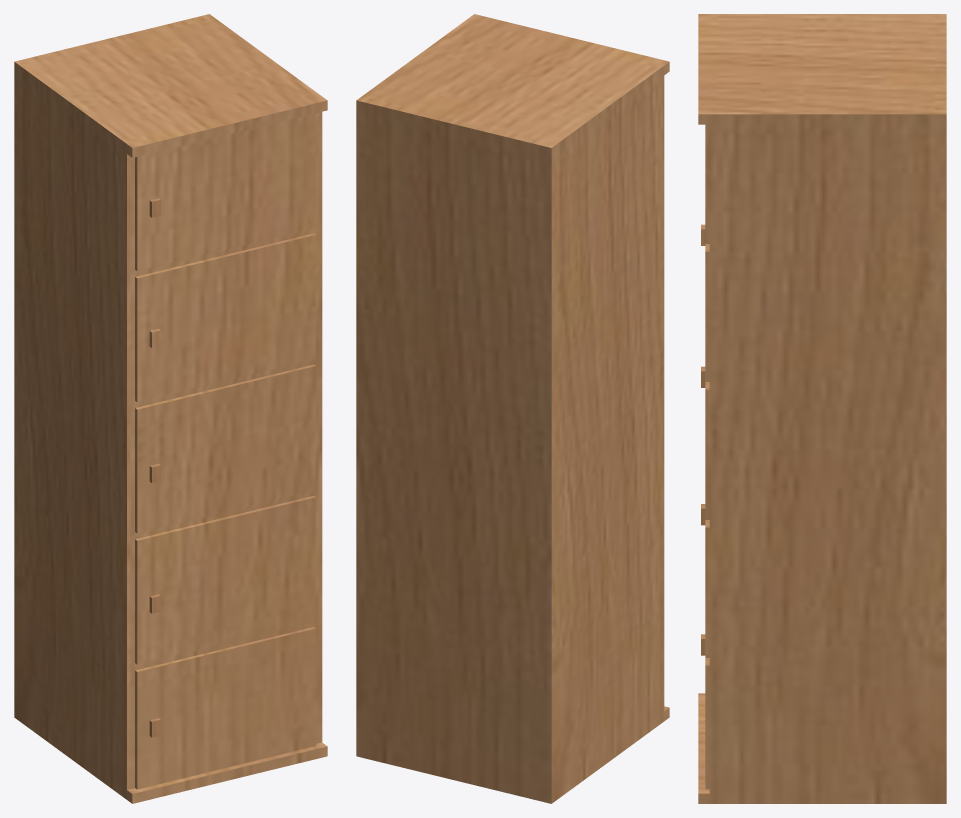
The model's file is Almari1.fbx.
3 views of the same model, side by side, from view 1: azimuth 30°, elevation 25°; view 2: azimuth 150°, elevation 25°; view 3: azimuth 270°, elevation 25° (orthographic). The views are drawn at different scales.
Visible parts, largest first — view 1: Cube.015; view 2: Cube.015; view 3: Cube.015.
Part boxes in pixels (x1=…): Cube.015: x1=14, y1=14, x2=327, y2=803; Cube.015: x1=356, y1=14, x2=669, y2=803; Cube.015: x1=698, y1=14, x2=946, y2=803.
Bounding box in the file's own units: 49.1 × 158 × 51.45.
Materials: 1 (1 with a texture image).
